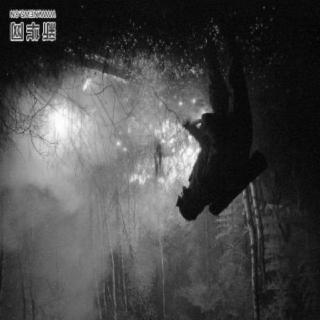Fire: (36, 75, 202, 191)
